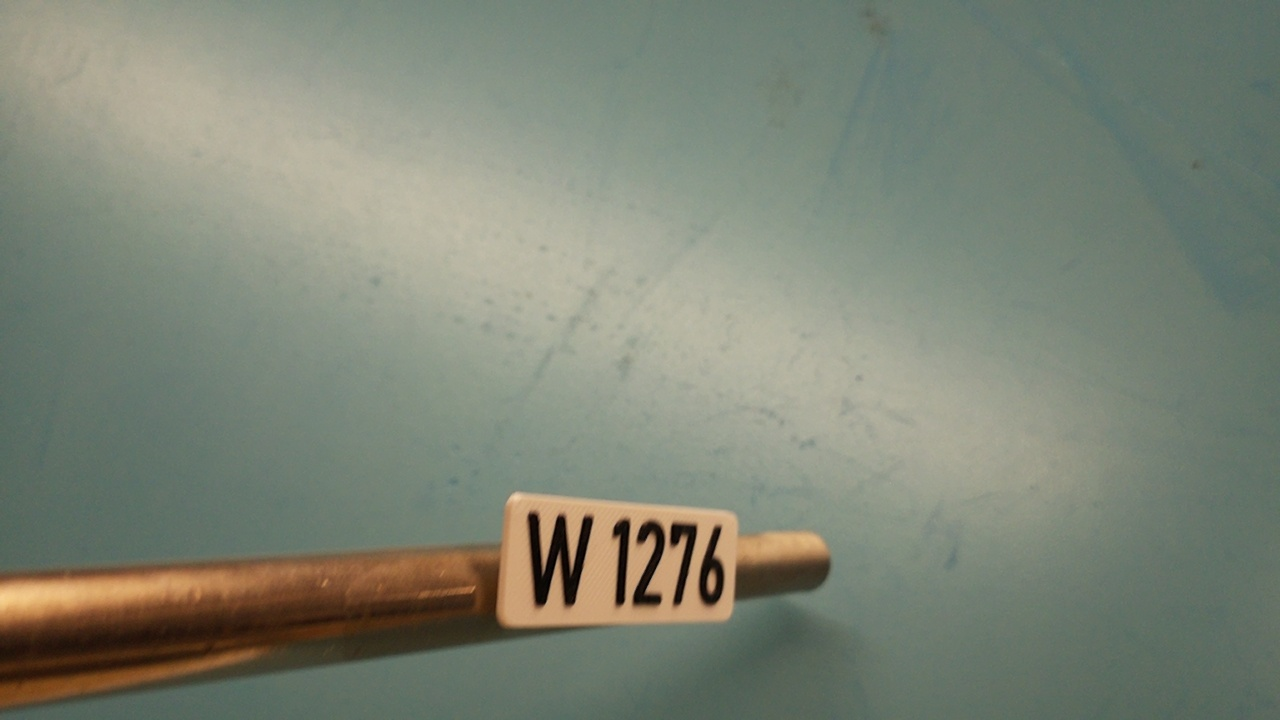license_plate: (494, 487, 742, 633)
